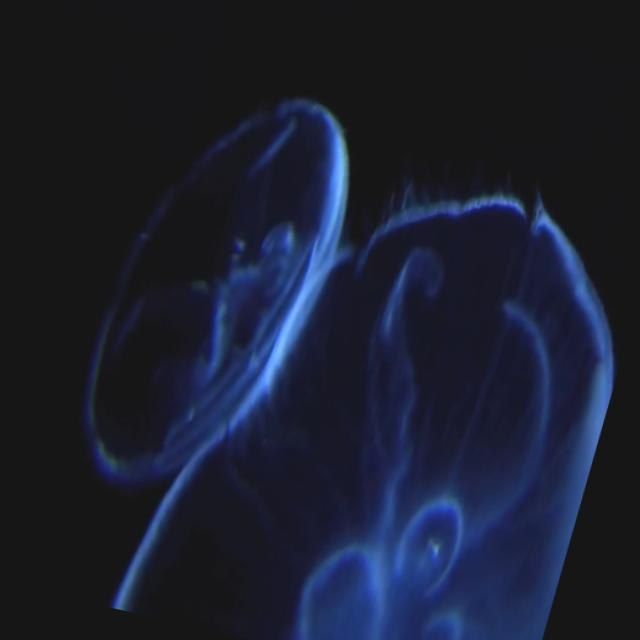Moon-jellyfish: (75, 94, 615, 640)
